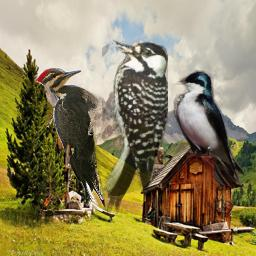Swallow: (173, 70, 245, 186)
Woodpecker: (102, 39, 168, 216), (35, 67, 107, 210)
